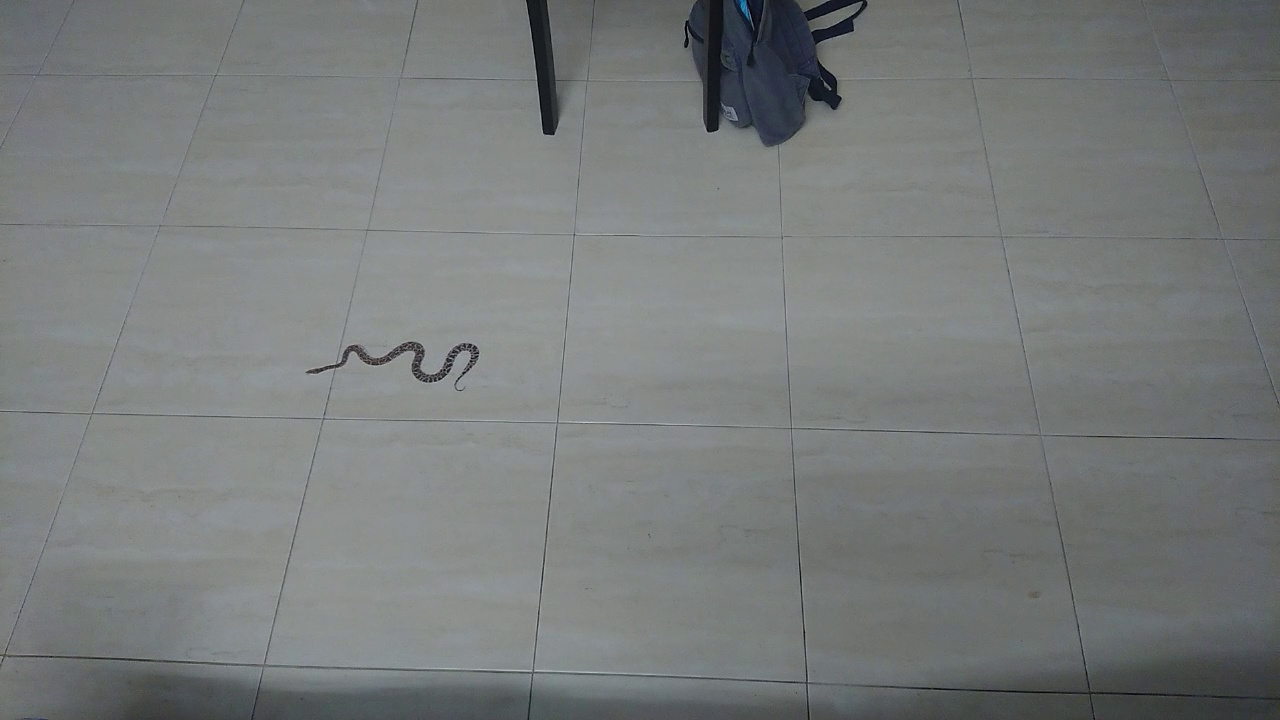snake: (292, 327, 499, 400)
